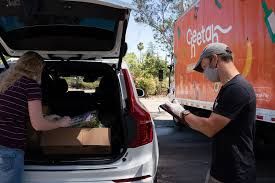Good: (1, 41, 257, 162)
